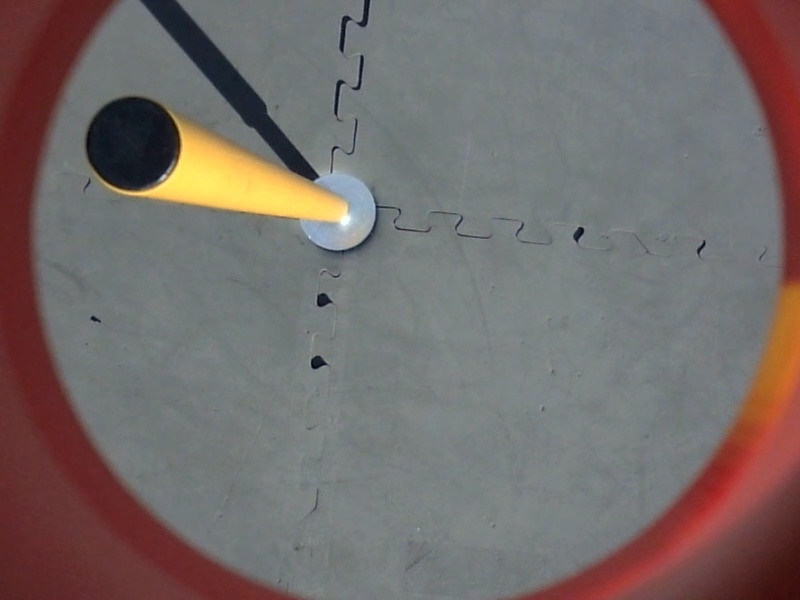tip: (83, 93, 193, 200)
